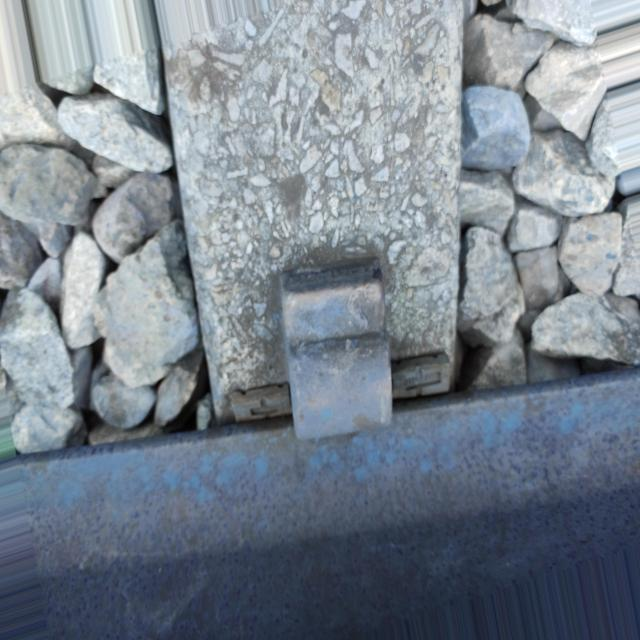Missing Fastener: (234, 233, 434, 472)
